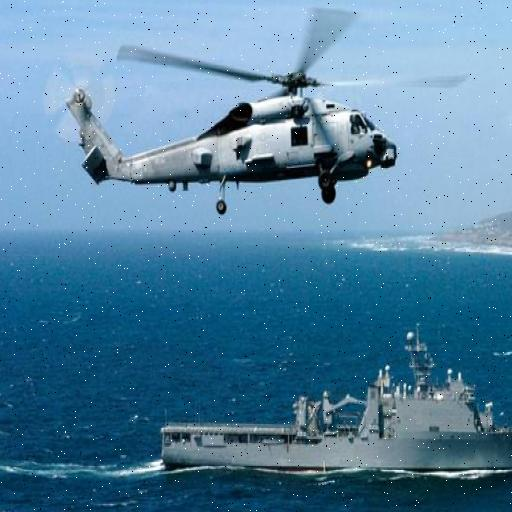helicopter: (41, 1, 429, 224), (146, 316, 512, 496)
